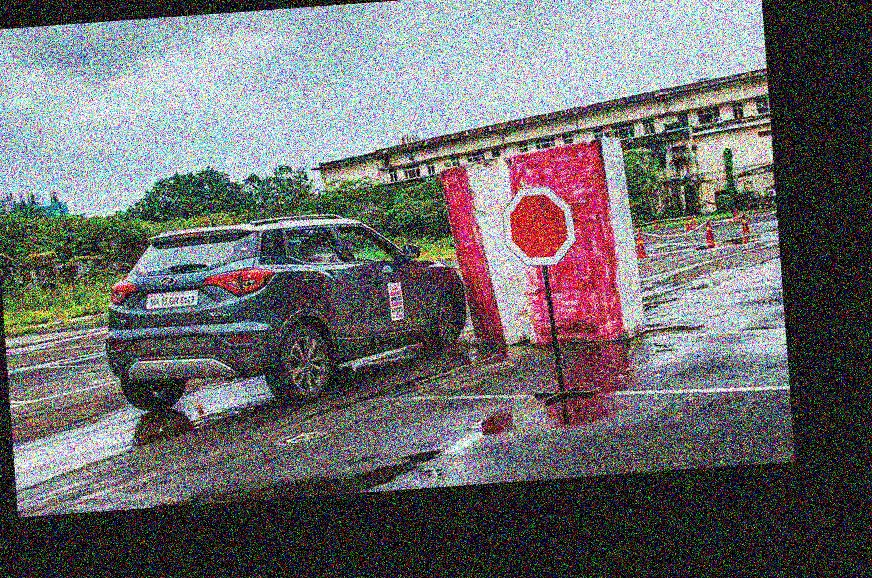car: (81, 183, 475, 426)
